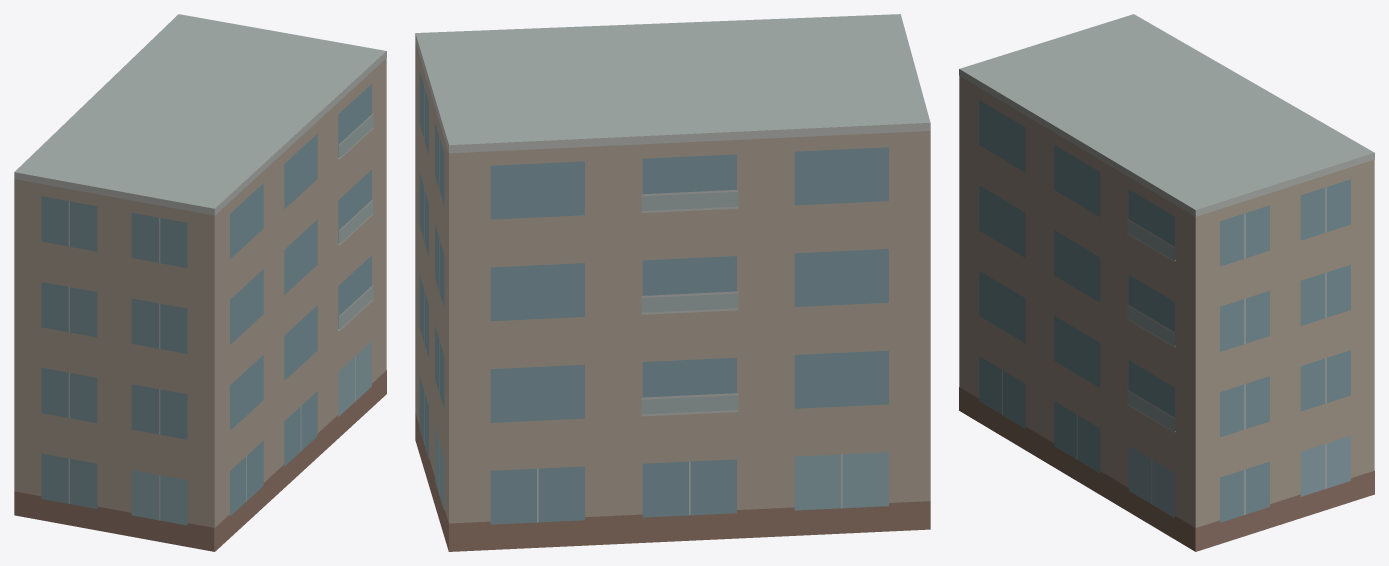
Rendered from survey-upis-33020550.glb.
The picture shows the model from 3 angles, left to right: view 1: azimuth 30°, elevation 25°; view 2: azimuth 150°, elevation 25°; view 3: azimuth 270°, elevation 25°; orthographic projection. The views are drawn at different scales.
Parts seen in each view (by area): view 1: survey-upis-33020550.tmp; view 2: survey-upis-33020550.tmp; view 3: survey-upis-33020550.tmp.
Part boxes in pixels (<box>): survey-upis-33020550.tmp: <box>14,14,386,551</box>; survey-upis-33020550.tmp: <box>415,14,930,551</box>; survey-upis-33020550.tmp: <box>959,14,1374,551</box>.
Size of the model in its own units: 15.03 by 12.2 by 13.46.
